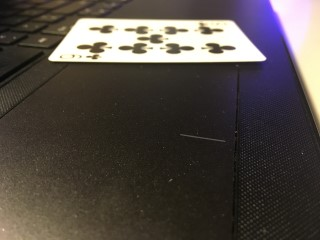NineOfClubs: (48, 17, 267, 62)
